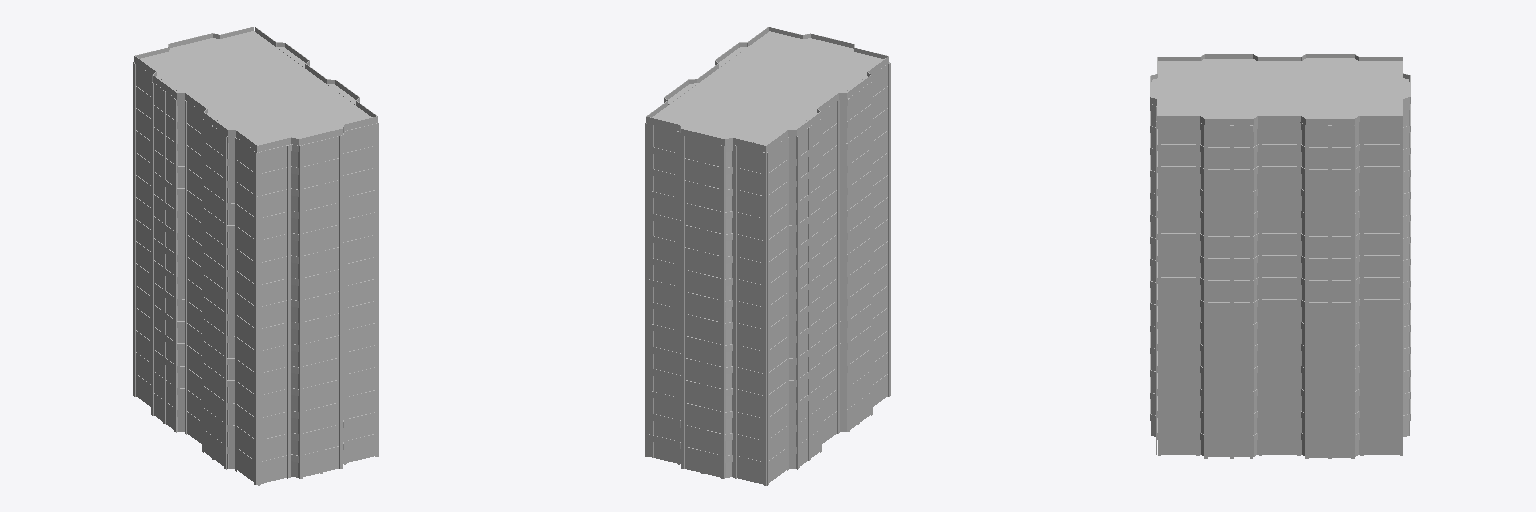
The model's file is apartment.obj.
3 views of the same model, side by side, from view 1: azimuth 30°, elevation 25°; view 2: azimuth 150°, elevation 25°; view 3: azimuth 270°, elevation 25° (orthographic).
Visible parts, largest first — view 1: Box24, Box01, Box04, Box10, Box15, Box16, Box08, Box17, Box19, Box501, Box502, Box497 (+15 smaller); view 2: Box24, Box01, Box03, Box20, Box15, Box16, Box14, Box18, Box21, Box477, Box493, Box494 (+15 smaller); view 3: Box02, Box24, Box07, Box11, Box22, Box487, Box490, Box486, Box488, Box491, Box508, Box511 (+10 smaller).
Part boxes in pixels (left/top/right/bottom): Box24: left=140, top=31, right=371, bottom=144; Box01: left=136, top=71, right=263, bottom=484; Box04: left=264, top=132, right=369, bottom=482; Box10: left=298, top=143, right=338, bottom=477; Box15: left=204, top=126, right=228, bottom=468; Box16: left=154, top=90, right=177, bottom=431; Box08: left=291, top=151, right=297, bottom=477; Box17: left=178, top=107, right=184, bottom=431; Box19: left=229, top=143, right=234, bottom=468; Box501: left=299, top=145, right=302, bottom=478; Box502: left=287, top=145, right=290, bottom=478; Box497: left=375, top=124, right=378, bottom=456; Box24: left=652, top=31, right=883, bottom=144; Box01: left=760, top=71, right=887, bottom=483; Box03: left=654, top=125, right=759, bottom=483; Box20: left=685, top=143, right=725, bottom=477; Box15: left=847, top=89, right=870, bottom=431; Box16: left=796, top=126, right=819, bottom=468; Box14: left=840, top=99, right=846, bottom=431; Box18: left=789, top=143, right=795, bottom=468; Box21: left=726, top=151, right=731, bottom=477; Box477: left=721, top=145, right=724, bottom=478; Box493: left=733, top=145, right=736, bottom=478; Box494: left=763, top=152, right=766, bottom=485; Box02: left=1161, top=122, right=1402, bottom=451; Box24: left=1158, top=61, right=1402, bottom=117; Box07: left=1208, top=132, right=1253, bottom=456; Box11: left=1309, top=132, right=1350, bottom=457; Box22: left=1403, top=110, right=1408, bottom=436; Box487: left=1328, top=125, right=1331, bottom=458; Box490: left=1230, top=125, right=1233, bottom=458; Box486: left=1360, top=123, right=1363, bottom=455; Box488: left=1297, top=123, right=1300, bottom=455; Box491: left=1196, top=123, right=1199, bottom=455; Box508: left=1204, top=126, right=1207, bottom=458; Box511: left=1351, top=126, right=1354, bottom=458.
Size of the model in its own units: 63.58 by 153 by 107.